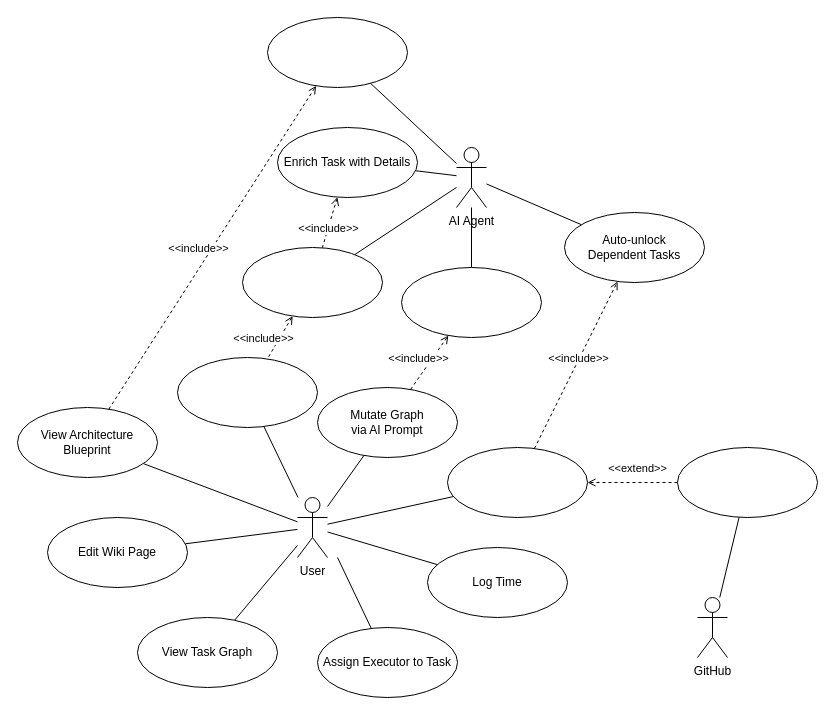
Some shapes in this 835 by 715 pixel diagram are drawn without their labels. The centre of each missing label's shape, as x and y in pixels:
"Close Task via Commit" belongs at pixel 747 482.
"Create Project" belongs at pixel 247 392.
"Decompose Project into DAG" belongs at pixel 312 282.
"Generate UML Diagrams" belongs at pixel 337 52.
"Resolve Cycle via Smart Recovery" belongs at pixel 471 302.
"Update Task Status" belongs at pixel 517 482.
